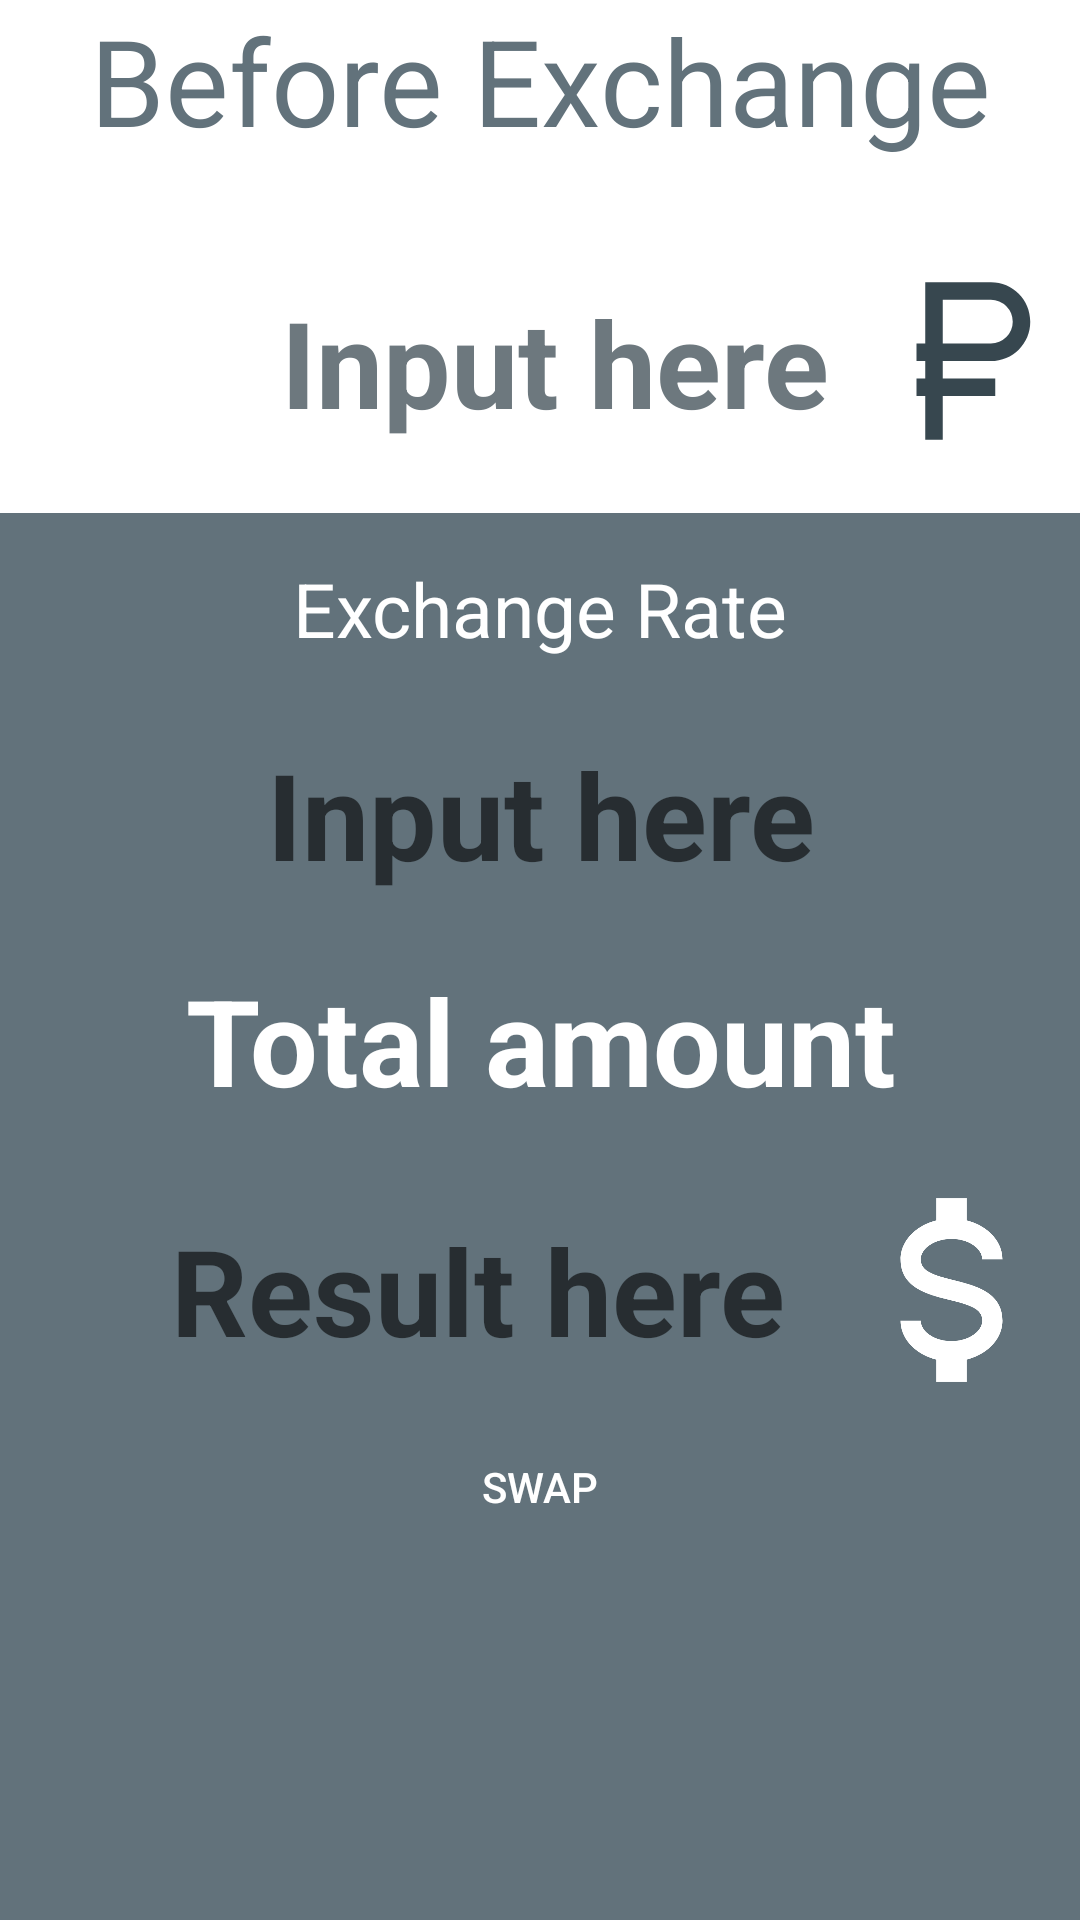

Icons on this 1080*1920 Android screen, each with its box as rect(x1, y1, x2, y2):
currency rub: rect(916, 282, 1031, 440)
currency usd: rect(900, 1198, 1003, 1382)
